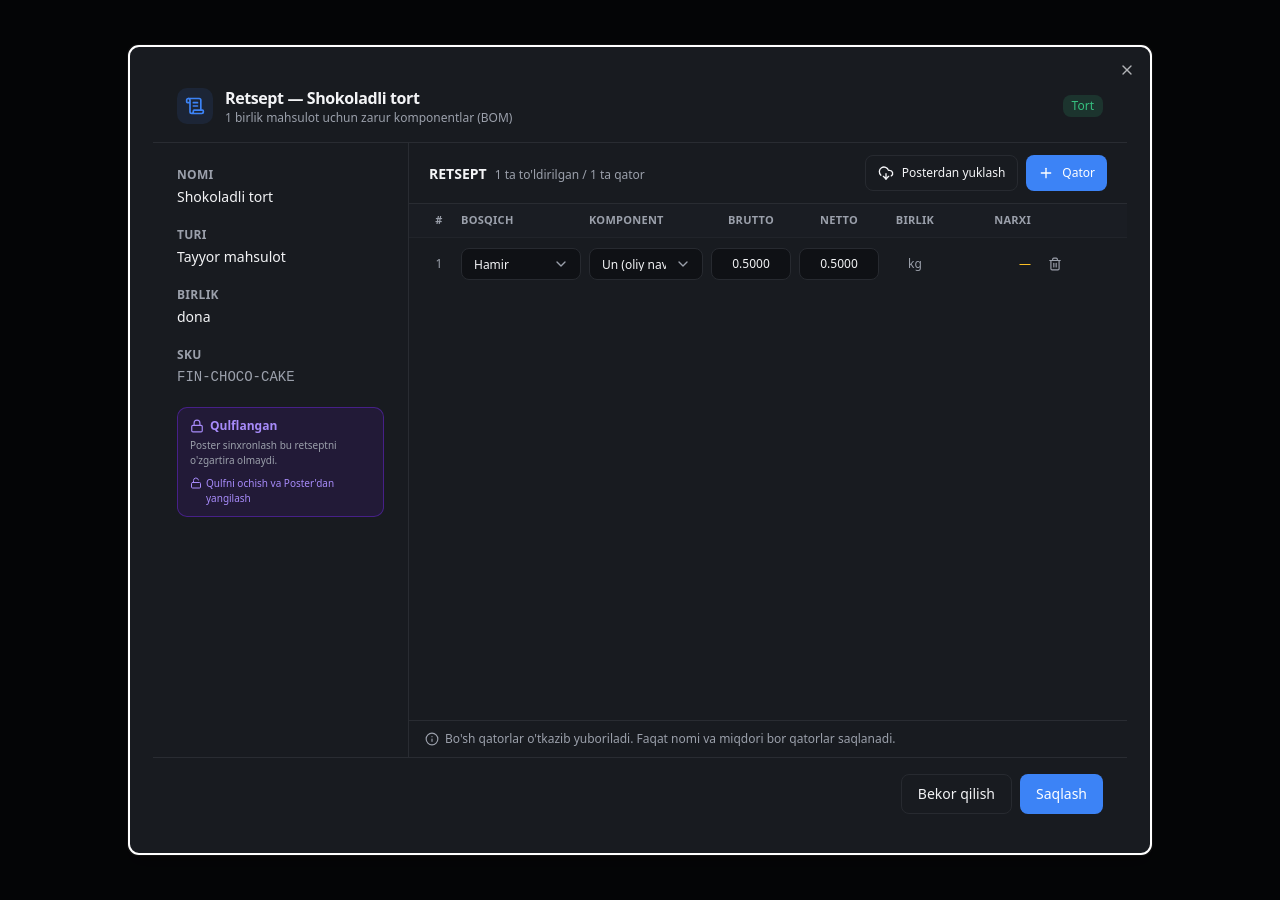
RecipeDialog — Poster resync › apply (unlock / refresh from Poster) › apply with warnings → a warning outcome, never a plain success
Expected: the 2nd dropdown showing "Un (oliy nav)" is shown, [589,248,703,280]
Click the button "Qulfni ochish va Poster'dan yangilash" at (280, 491), box [190,476,371,506]
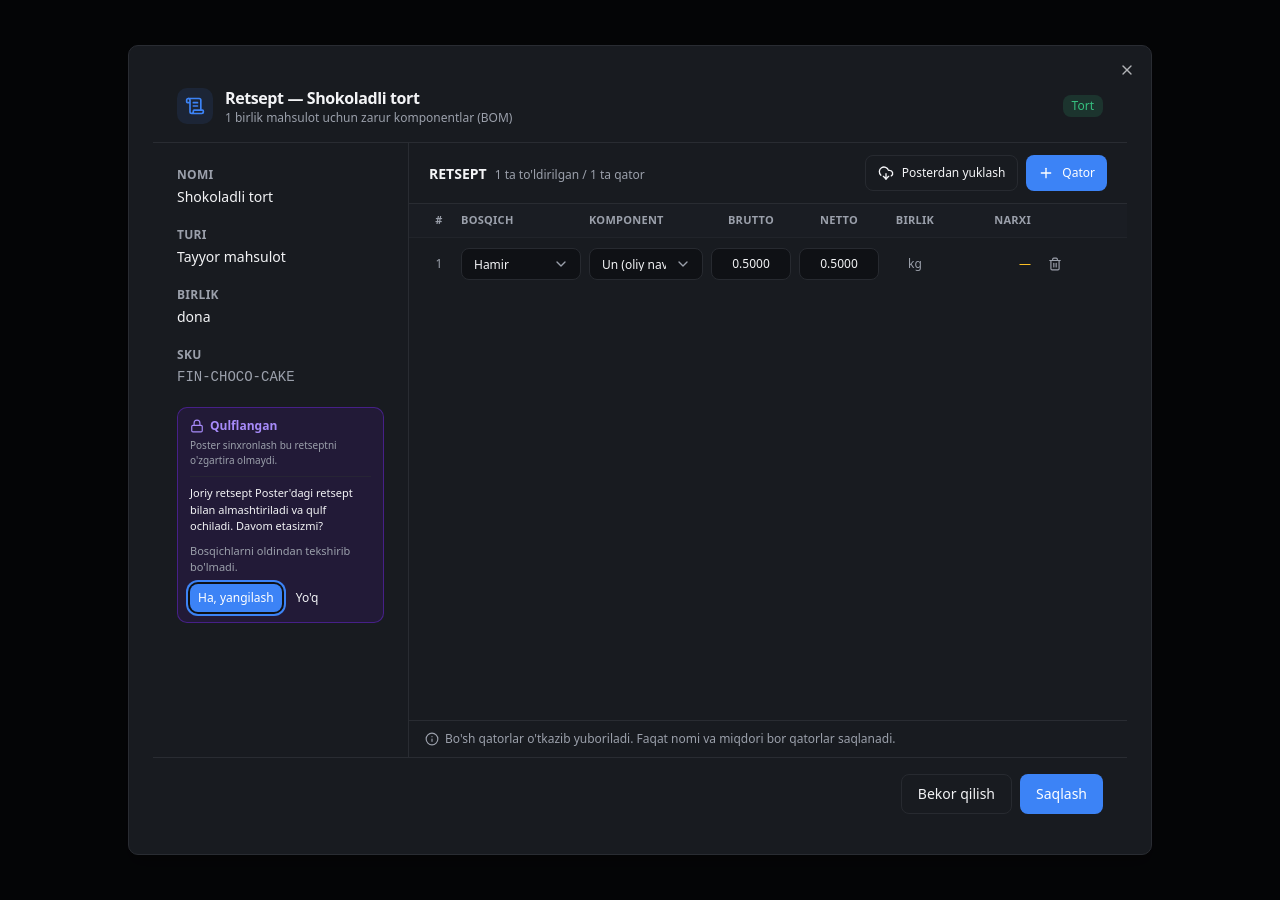
Expected: the button "Ha, yangilash" is enabled
Click the button "Ha, yangilash" at (236, 598), box [190,584,282,612]
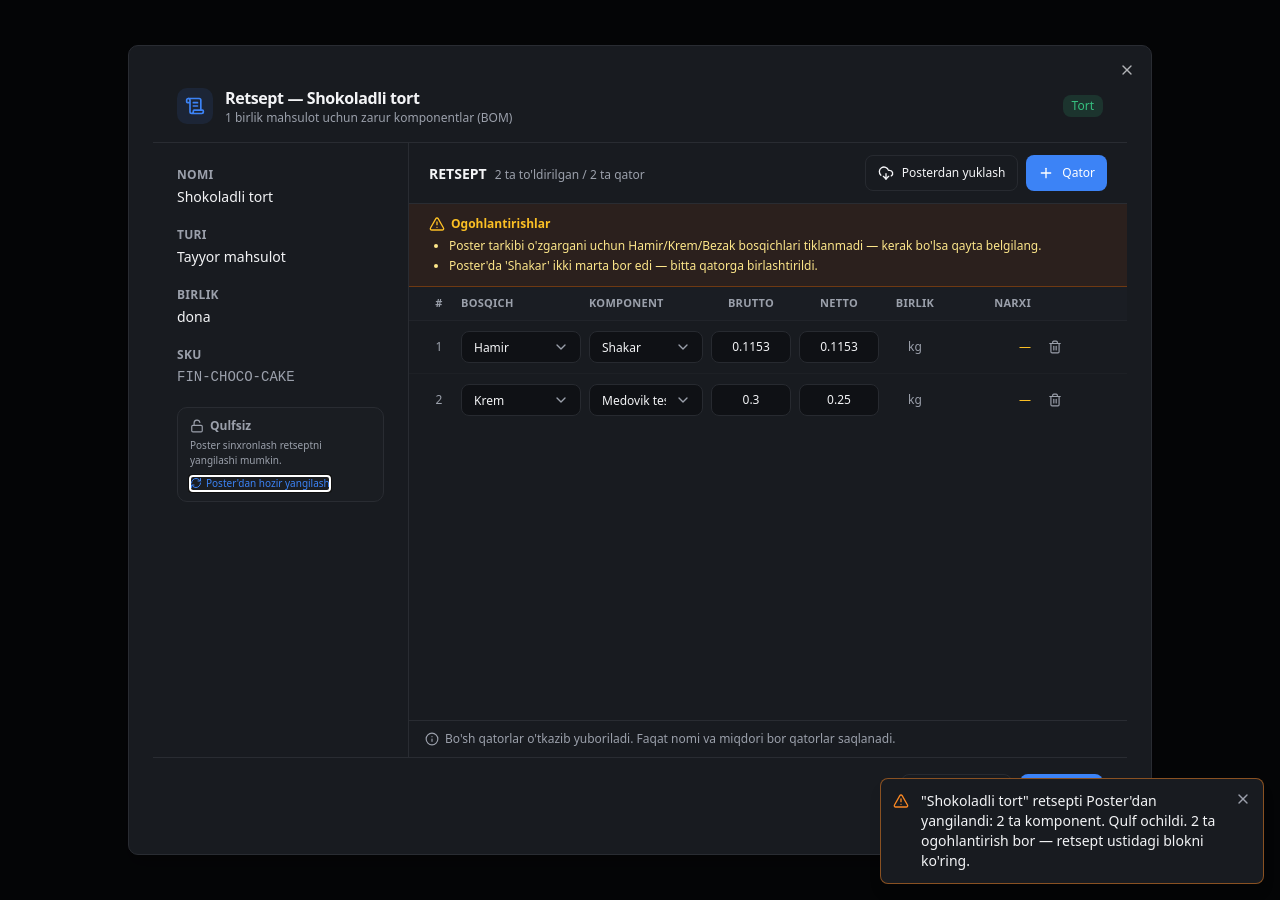
Expected: the 2nd dropdown showing "Shakar" is shown, [589,330,703,362]
Expected: the list item "Poster'da 'Shakar' ikki marta bor edi — bitta qatorga birlashtirildi." is shown, [449,257,818,274]
Expected: the text "Poster tarkibi o'zgargani uchun Hamir/Krem/Bezak bosqichlari tiklanmadi — kerak bo'lsa qayta belgilang." is shown, [449,237,1041,254]
